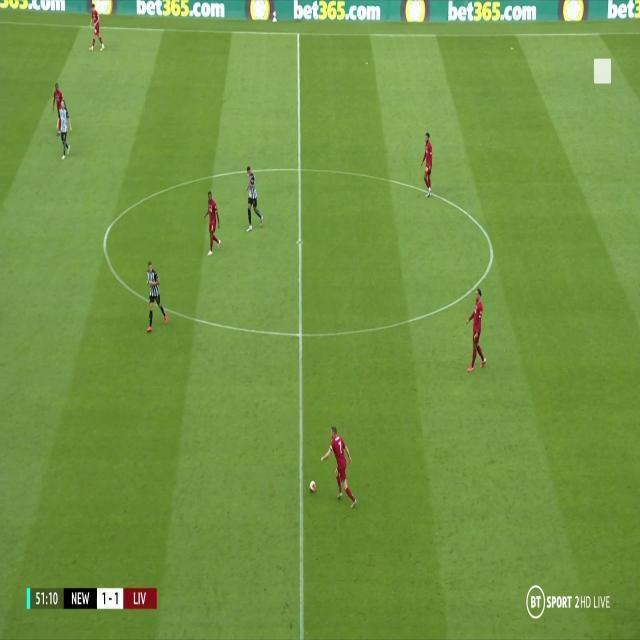ball: (308, 479, 317, 492)
player: (318, 427, 358, 507), (463, 287, 488, 374), (142, 257, 170, 333), (241, 162, 265, 232), (202, 189, 224, 258), (419, 131, 436, 201), (87, 1, 106, 53), (58, 98, 73, 161), (53, 84, 64, 133)
